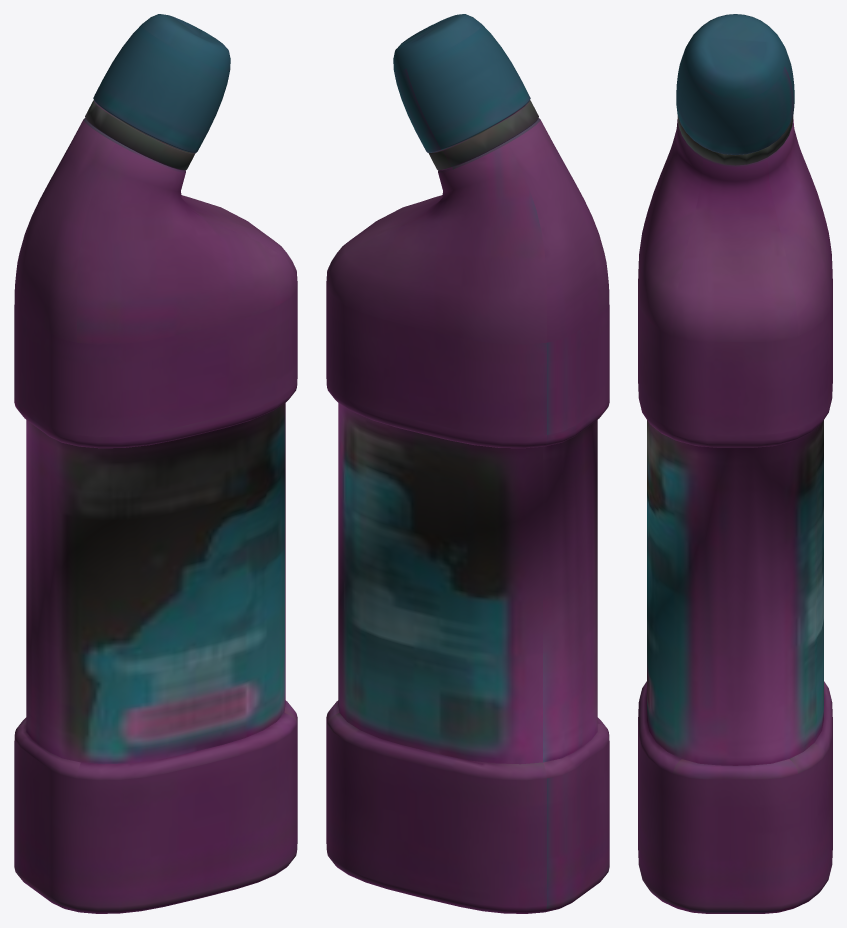
Rendered from bleach.glb.
3 renders of one model, left to right at view 1: azimuth 30°, elevation 25°; view 2: azimuth 150°, elevation 25°; view 3: azimuth 270°, elevation 25°, orthographic.
Parts seen in each view (by area): view 1: bleach_bottle; view 2: bleach_bottle; view 3: bleach_bottle.
Part boxes in pixels (<box>): bleach_bottle: <box>14,14,297,913</box>; bleach_bottle: <box>326,14,609,913</box>; bleach_bottle: <box>638,14,832,913</box>.
Bounding box in the file's own units: 0.0884 × 0.2937 × 0.0612.
Materials: 1 (1 with a texture image).
